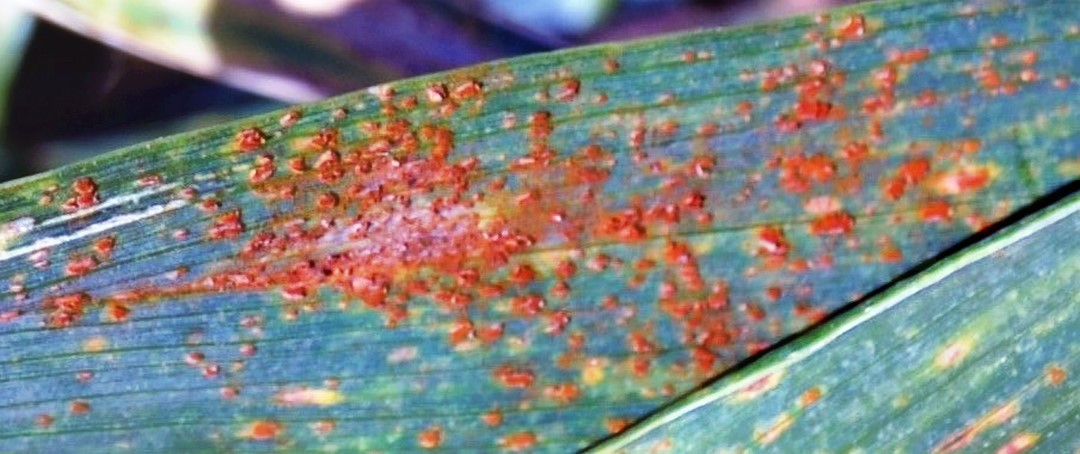Leaf Rust: (149, 26, 819, 440)
